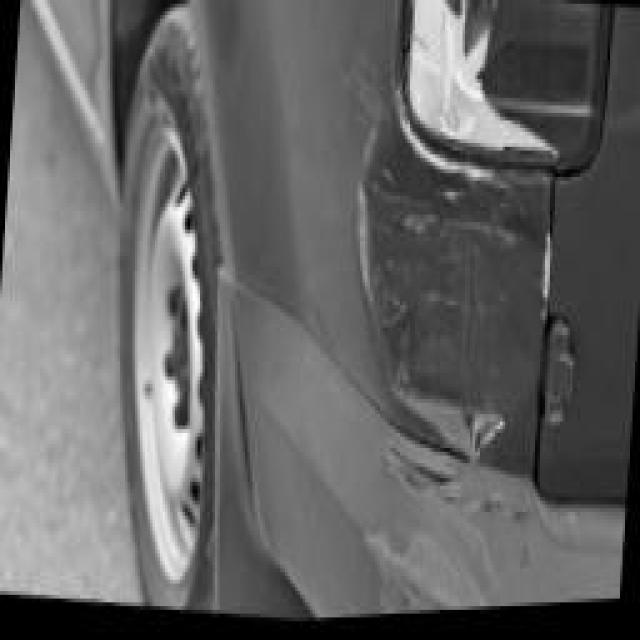Bumper: (320, 456, 555, 622)
Fender: (268, 128, 552, 459)
Light: (402, 0, 570, 171)
